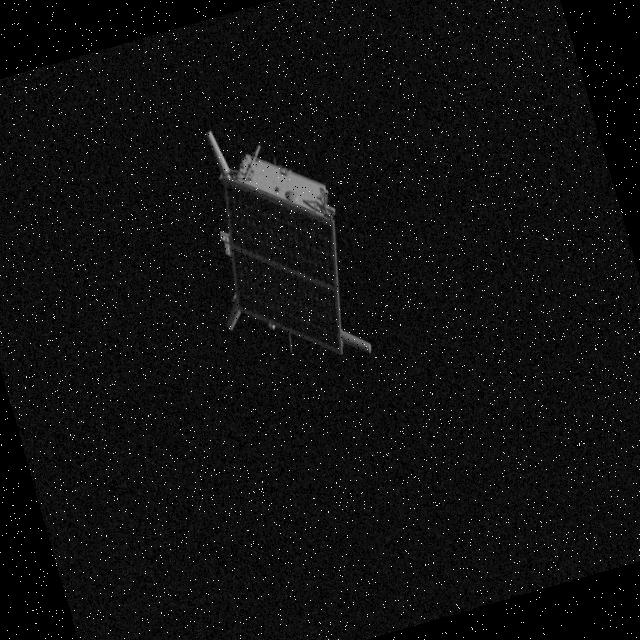medium_debris: (192, 120, 370, 372)
